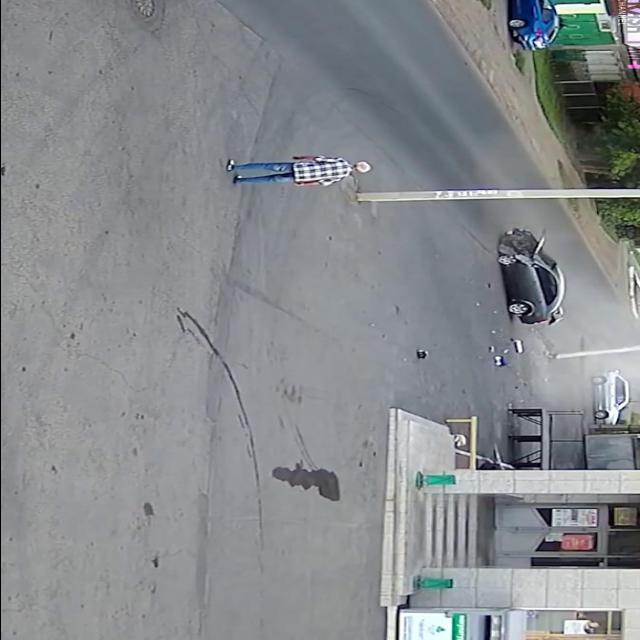accident: (466, 222, 577, 374)
